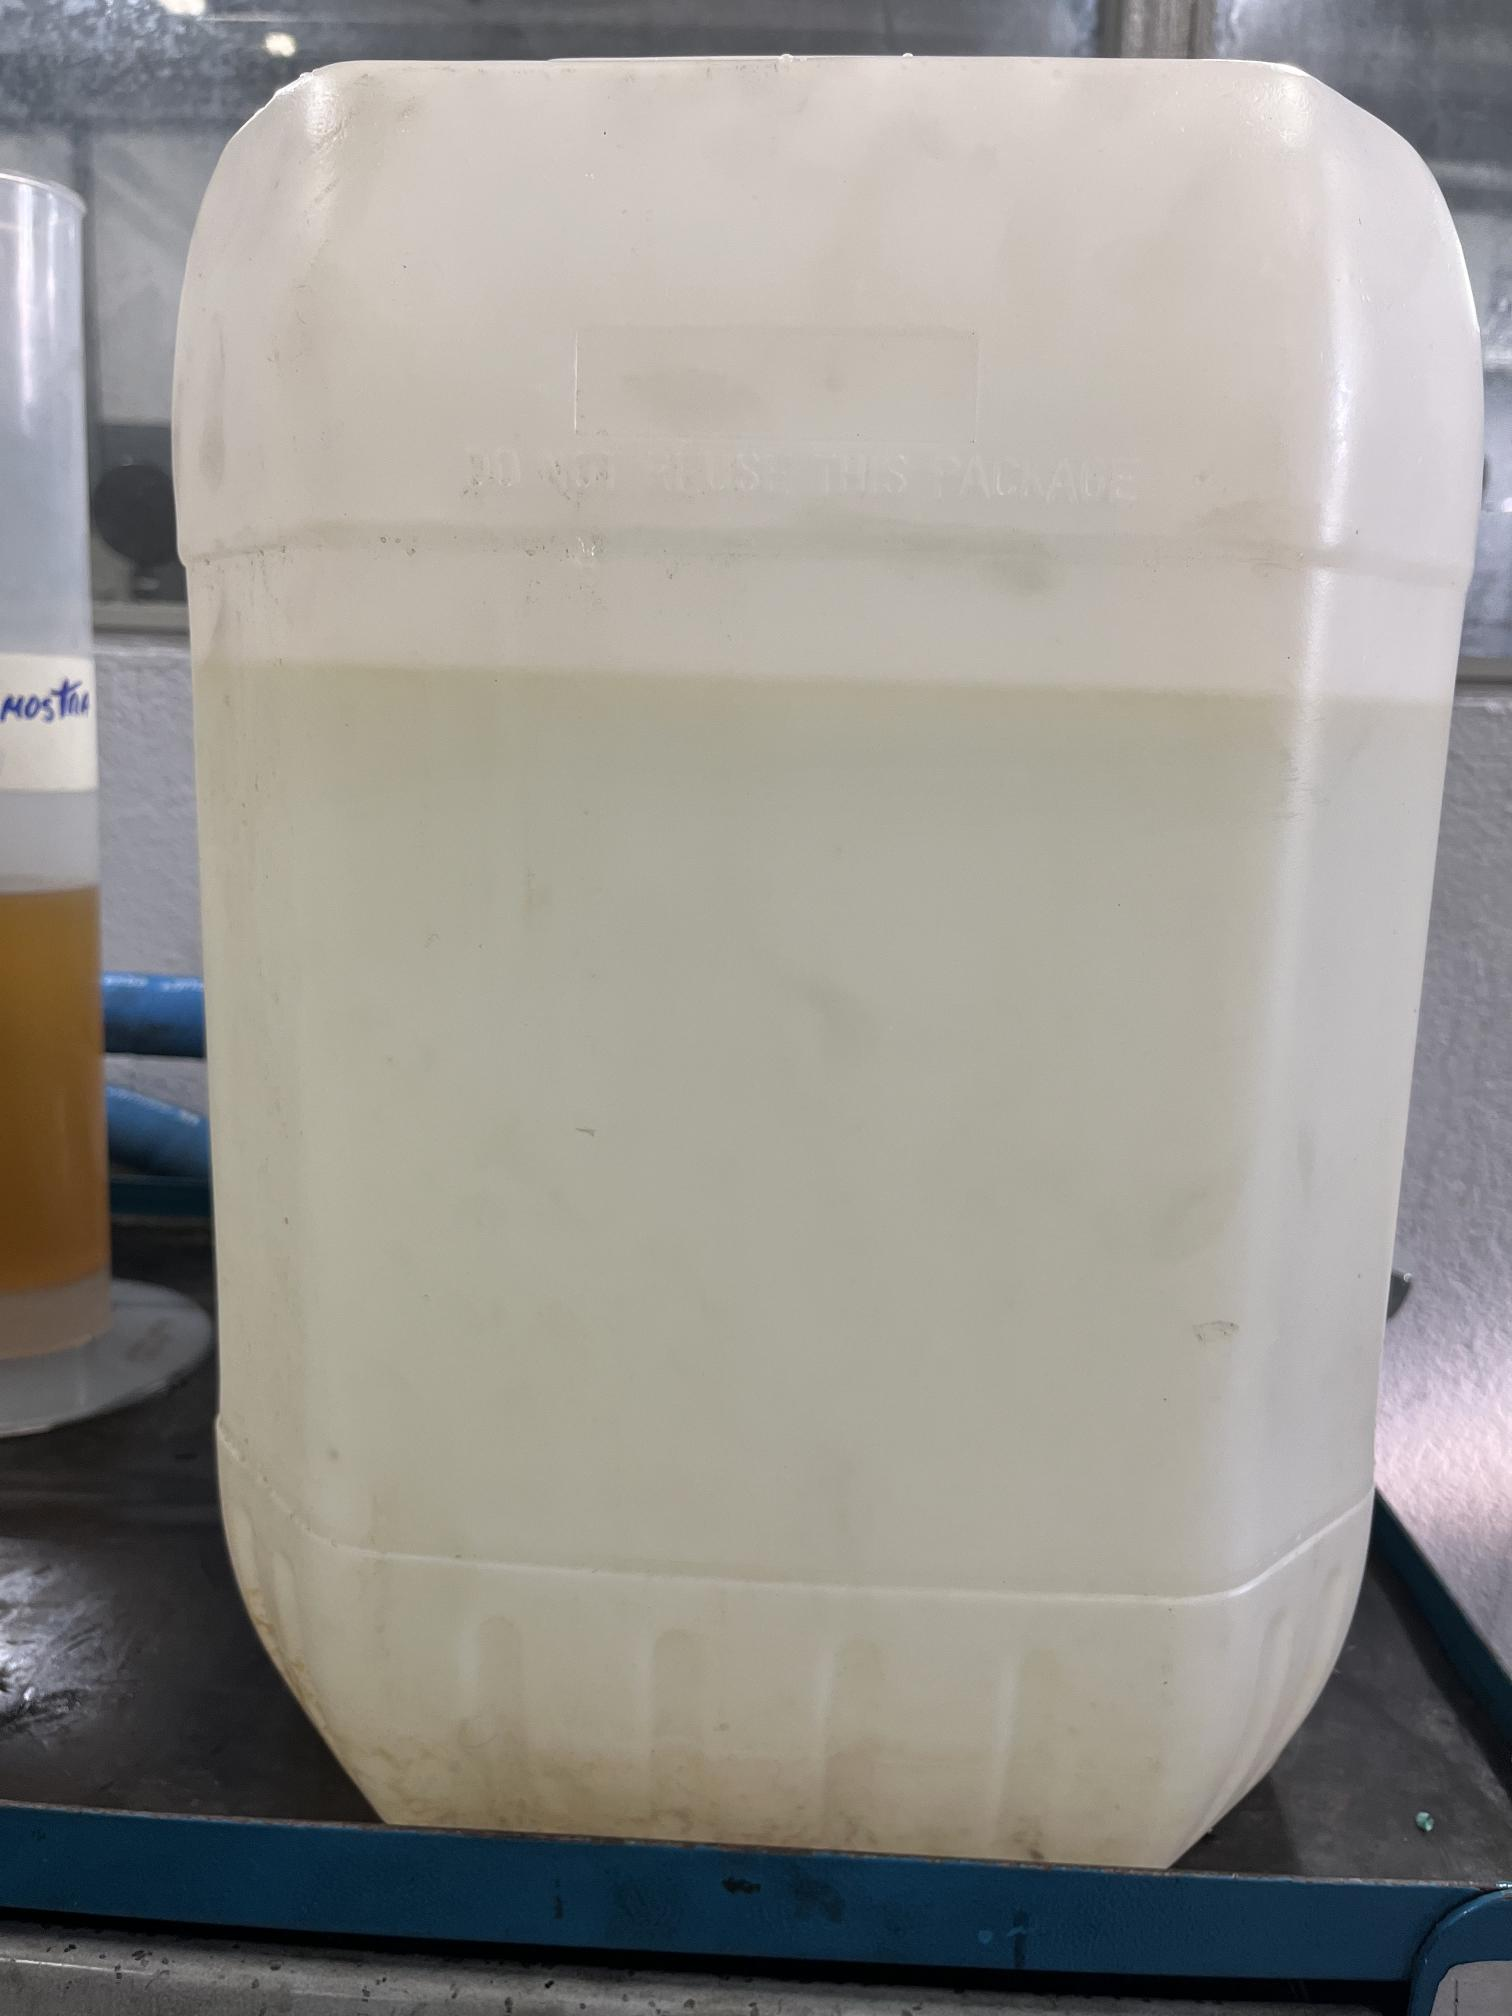Galao: (140, 50, 1420, 1865)
